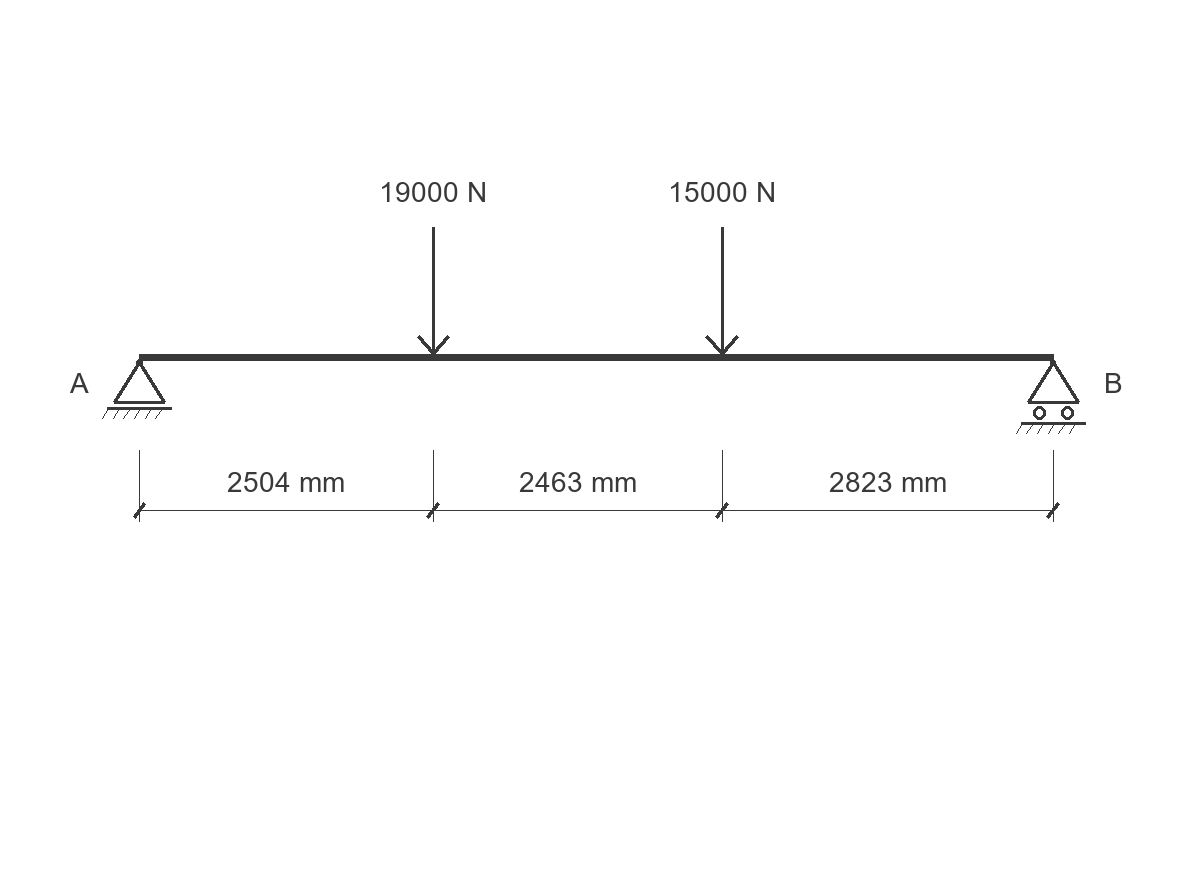pin_support: (102, 359, 172, 419)
point_load: (705, 227, 739, 355), (417, 227, 450, 355)
roller_support: (1016, 359, 1086, 434)
